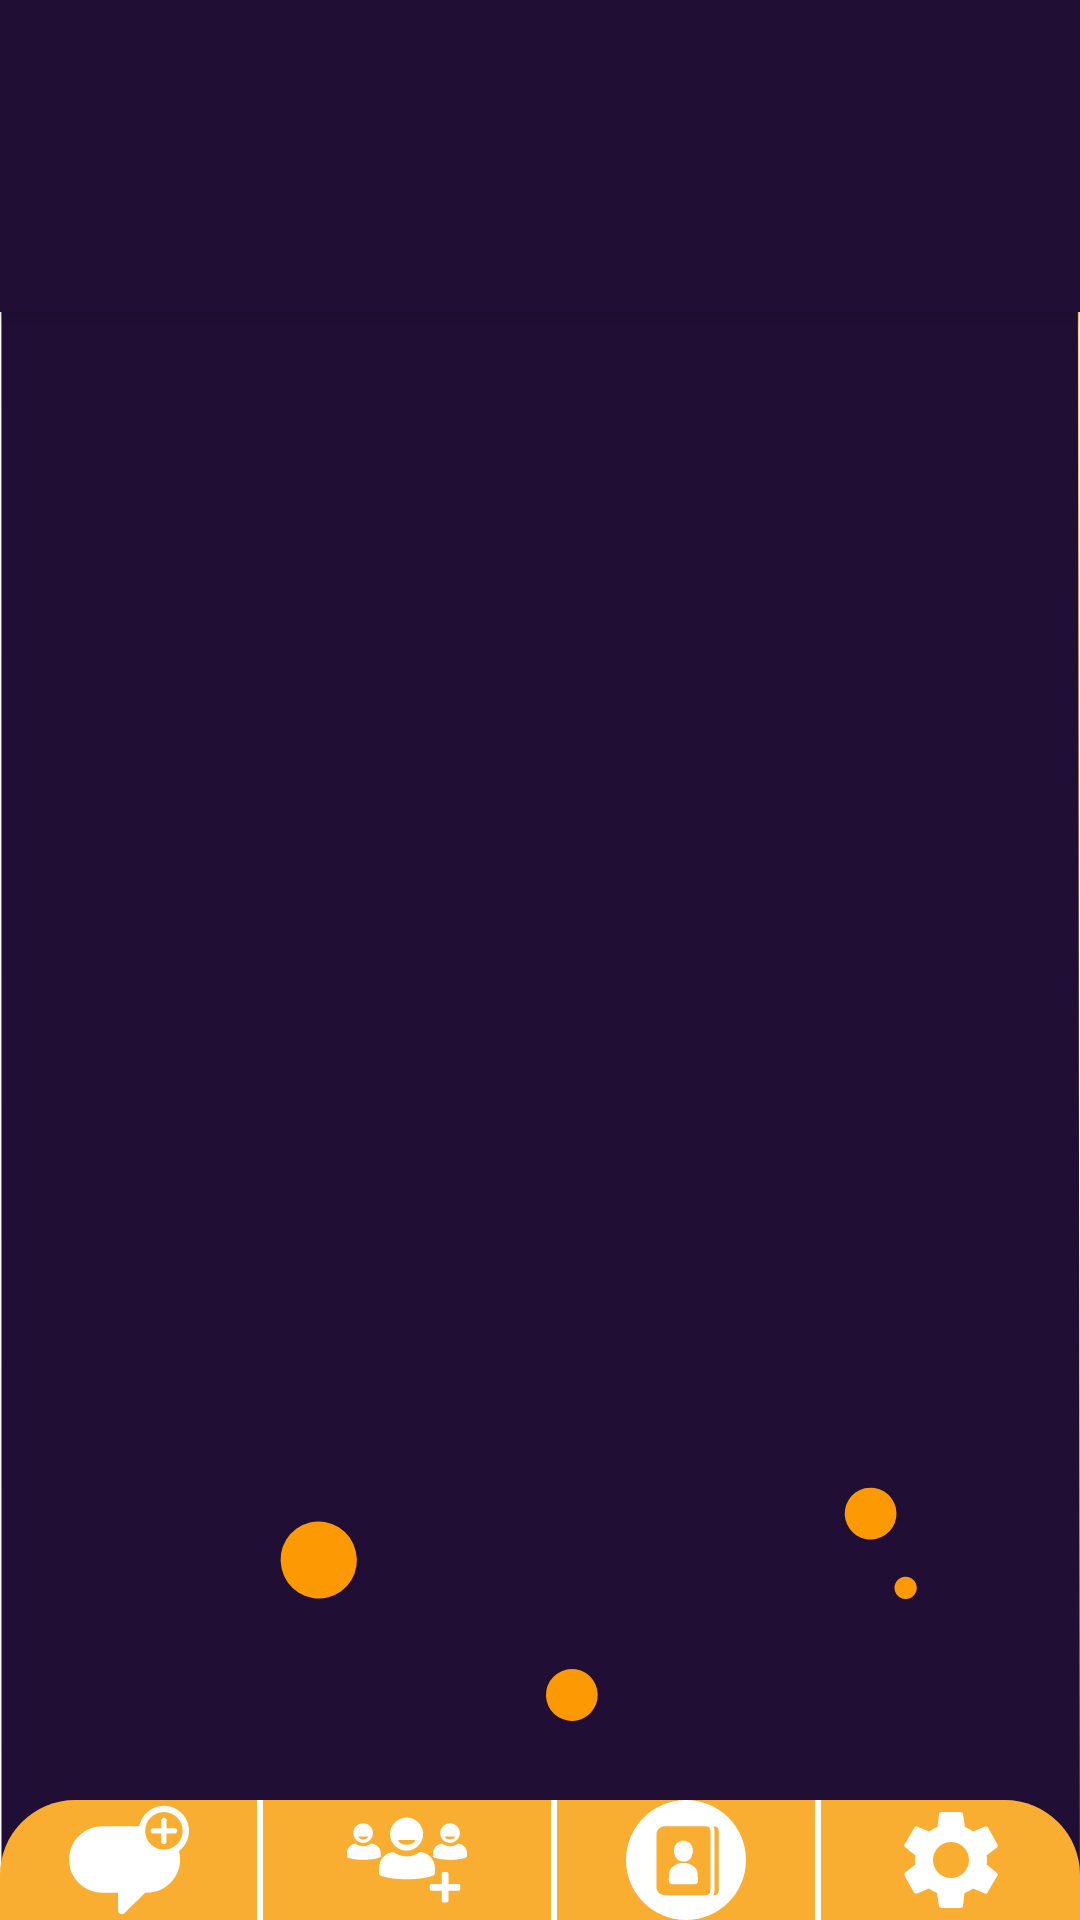

Named icons in this screenshot (1080×1920) and their centers, [x,y]:
add group: [407,1860]
phone book: [686,1860]
settings: [950,1860]
